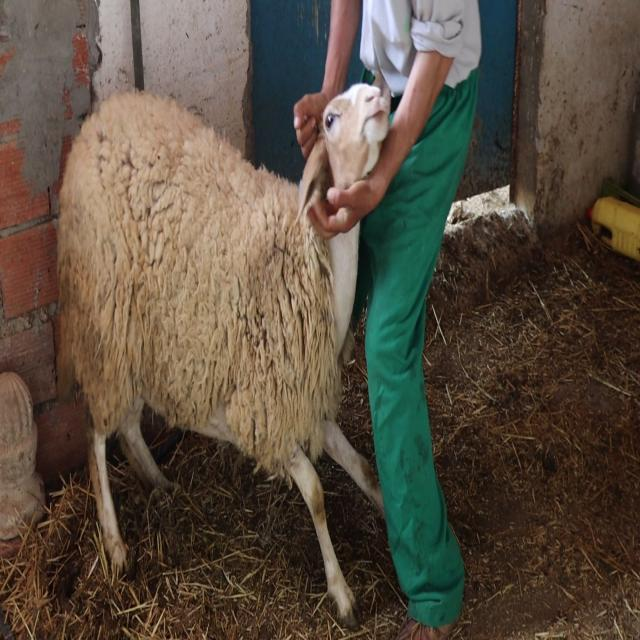Score_4: (58, 84, 389, 618)
